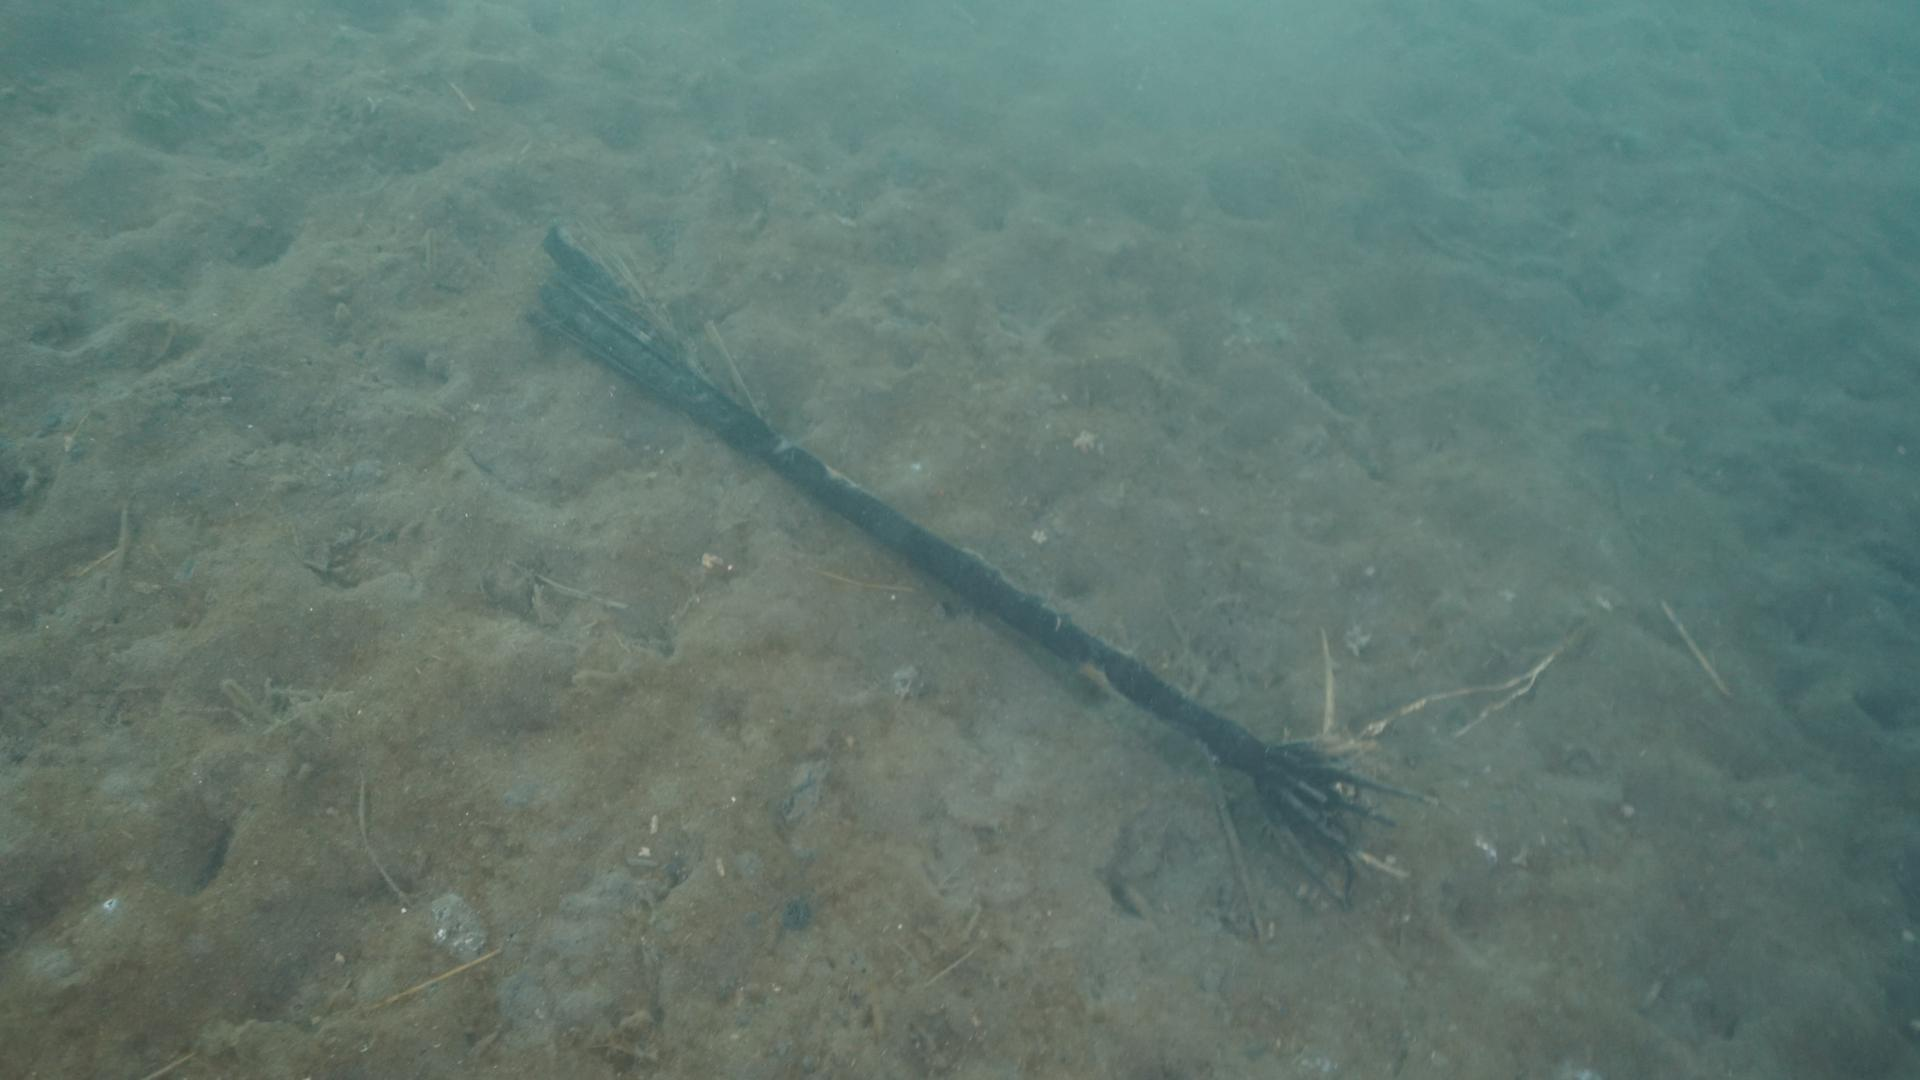wood: (521, 223, 1432, 881)
